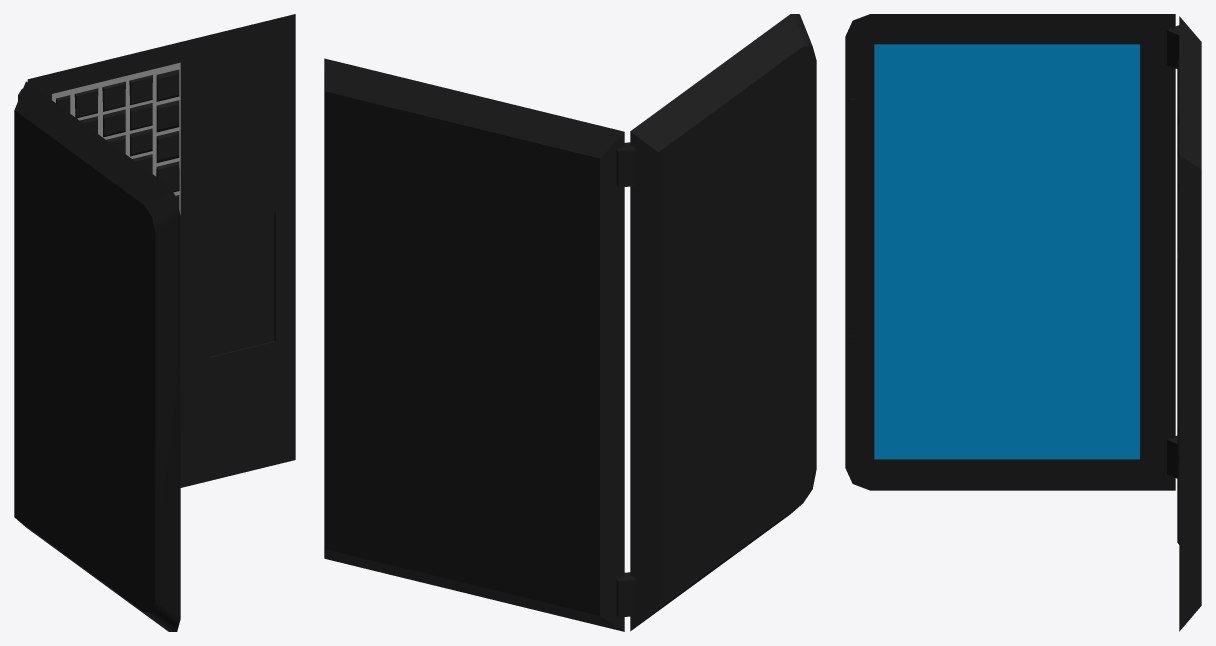
3 views of the same model, side by side, from view 1: azimuth 30°, elevation 25°; view 2: azimuth 150°, elevation 25°; view 3: azimuth 270°, elevation 25° (orthographic). The views are drawn at different scales.
Parts seen in each view (by area): view 1: Google:pCube24; view 2: Google:pCube24; view 3: Google:pCube24.
Boxes of the visible parts, left/top/right/bottom form: Google:pCube24: left=14, top=14, right=295, bottom=631; Google:pCube24: left=324, top=14, right=816, bottom=631; Google:pCube24: left=845, top=14, right=1201, bottom=631.
Bounding box in the file's own units: 85.63 × 126 × 85.47.
